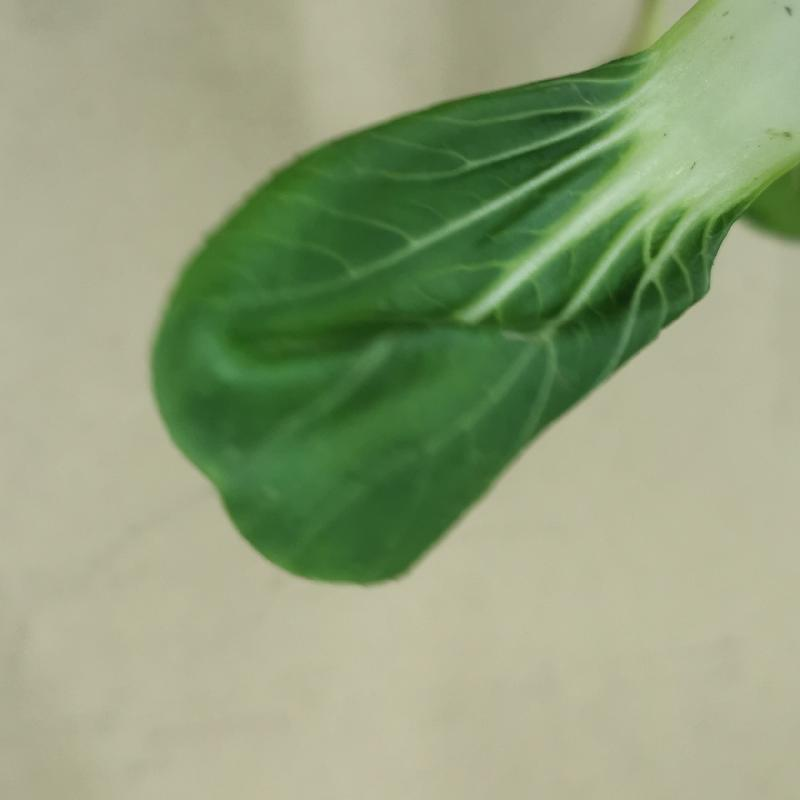green vegatable: (150, 7, 800, 596)
